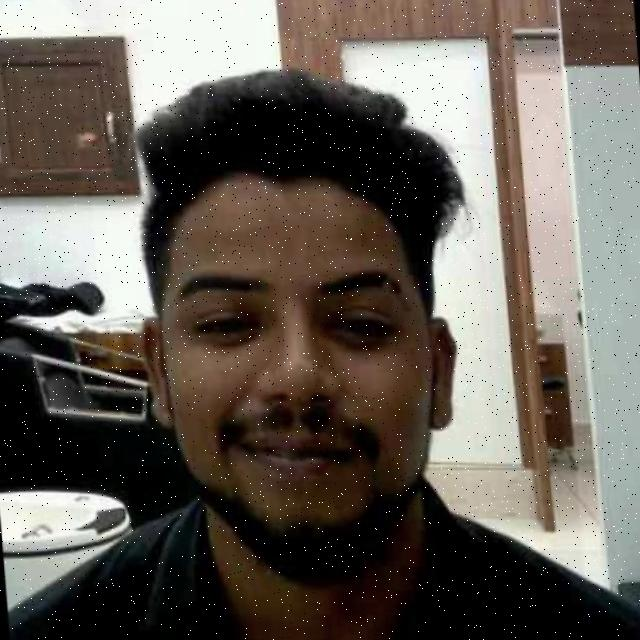puffy_eyes: (194, 325, 256, 344), (322, 333, 384, 348)
